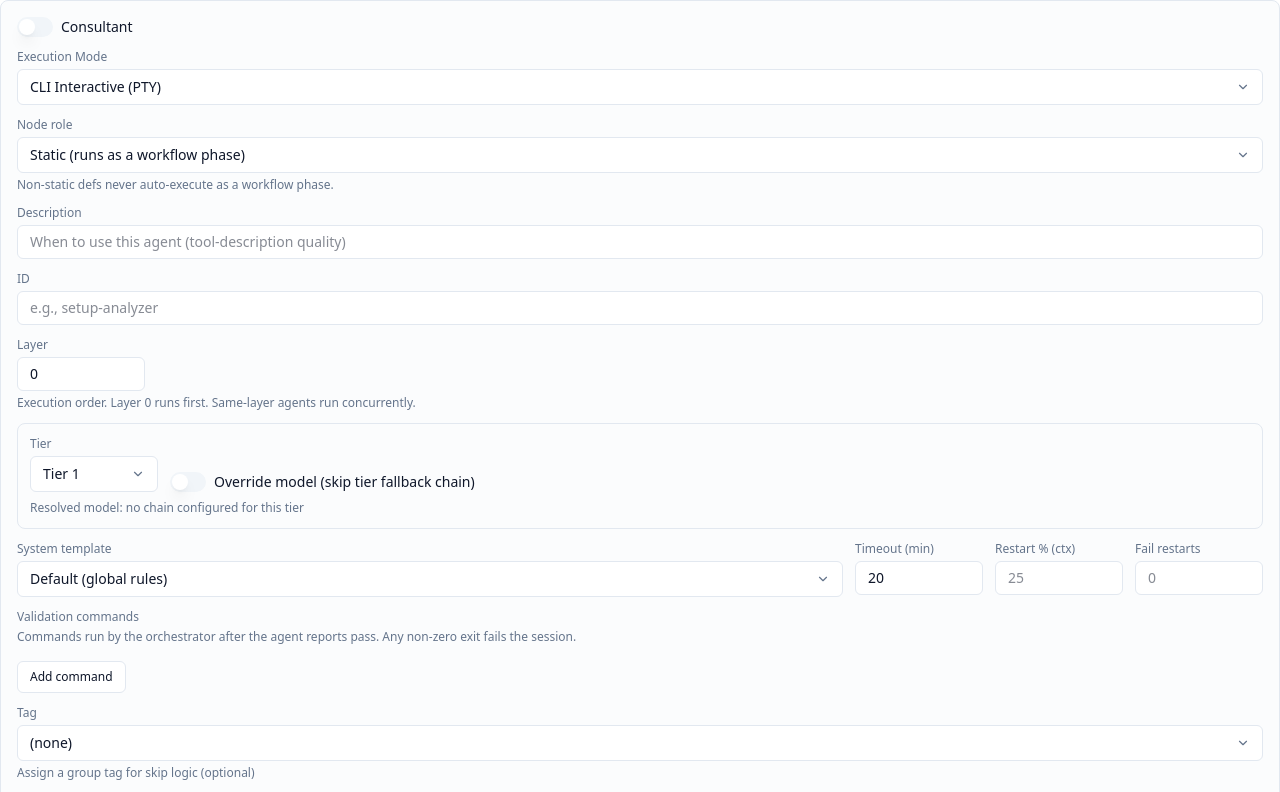
Test case: AgentDefForm - tag dropdown › options › shows (none) option plus all group options
Click the button "(none)". click: x=51, y=742
box: [17,725,1263,761]
(page scrolled)
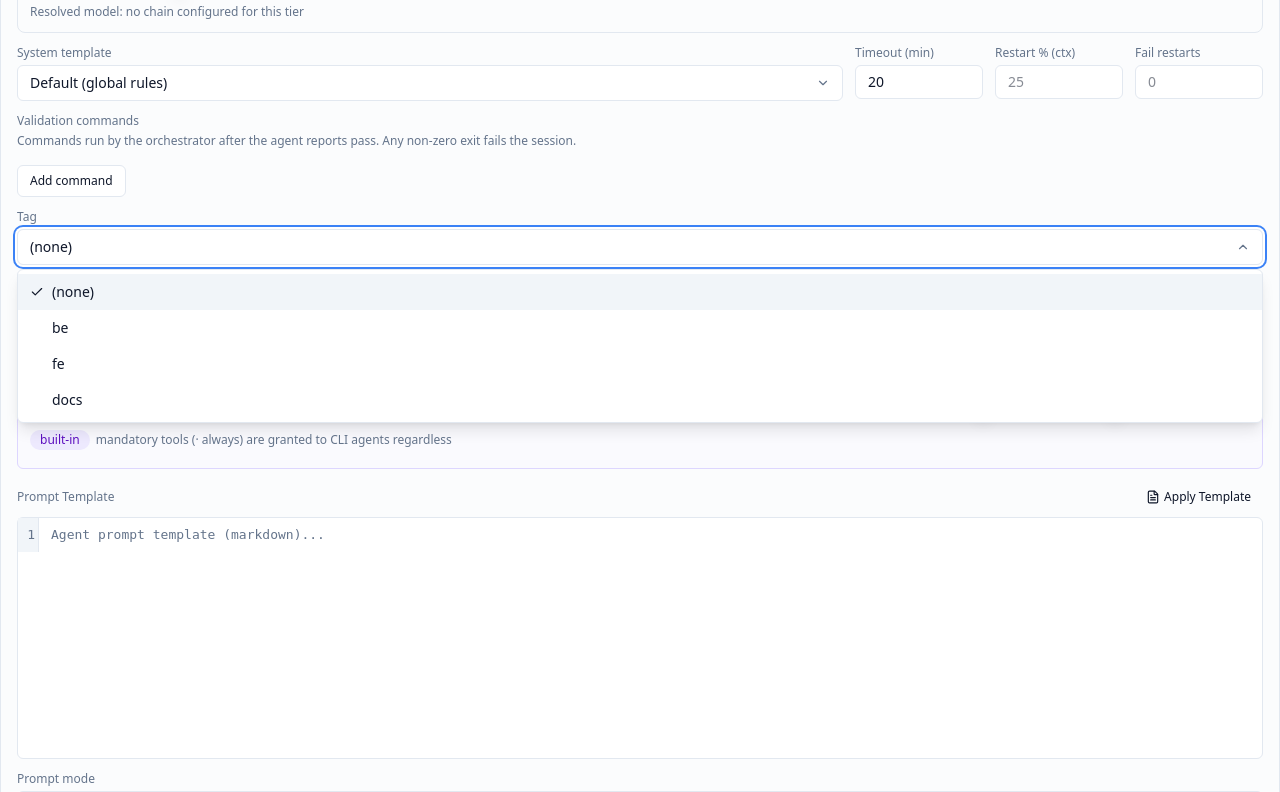
Result: the text "be" is shown at [52,318,68,338]
Result: the text "fe" is shown at [52,354,65,374]
Result: the text "docs" is shown at [52,390,82,410]
